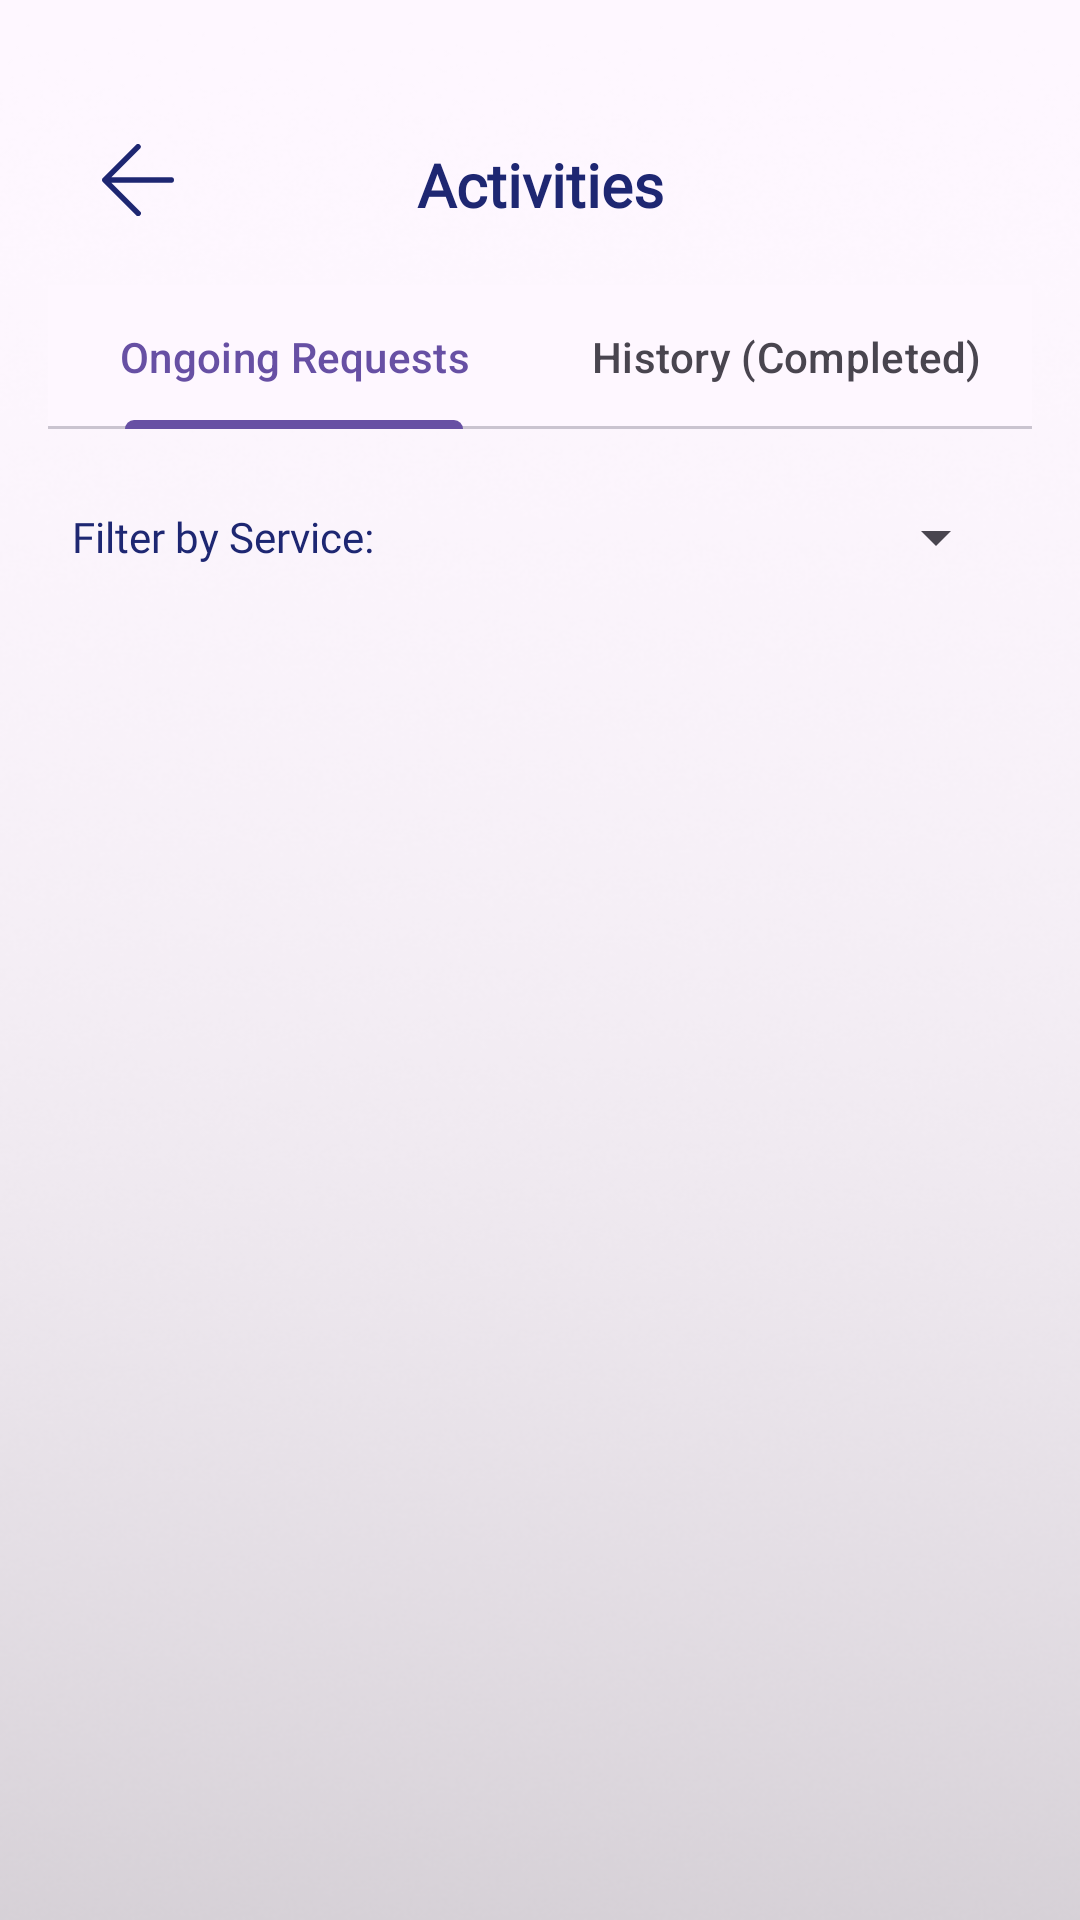

Point at icon controls on the screen. Image size 1080×1920, points as [x,y].
Back: [138,180]
